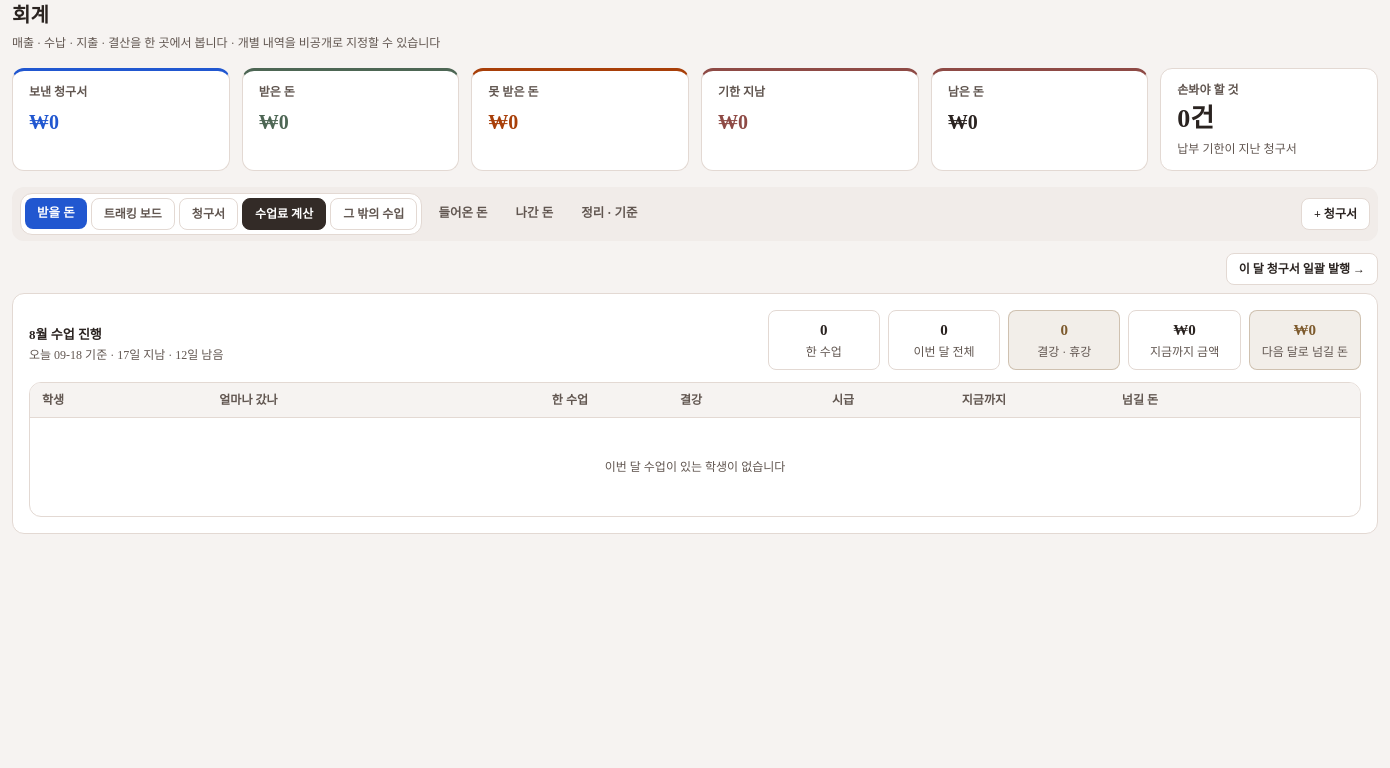
it: 수강·월 청구 탭의 「이 달 청구서 일괄 발행 →」은 청구서 탭의 일괄 발행 창을 **그 달**로 연다 (H-75)
The width and height of the screenshot is (1390, 768).
Expected: the heading "8월 수업 진행" is shown, x1=29 y1=326 x2=102 y2=342
Click the button "이 달 청구서 일괄 발행 →". click: (1302, 268)
box: x1=1226 y1=252 x2=1378 y2=284
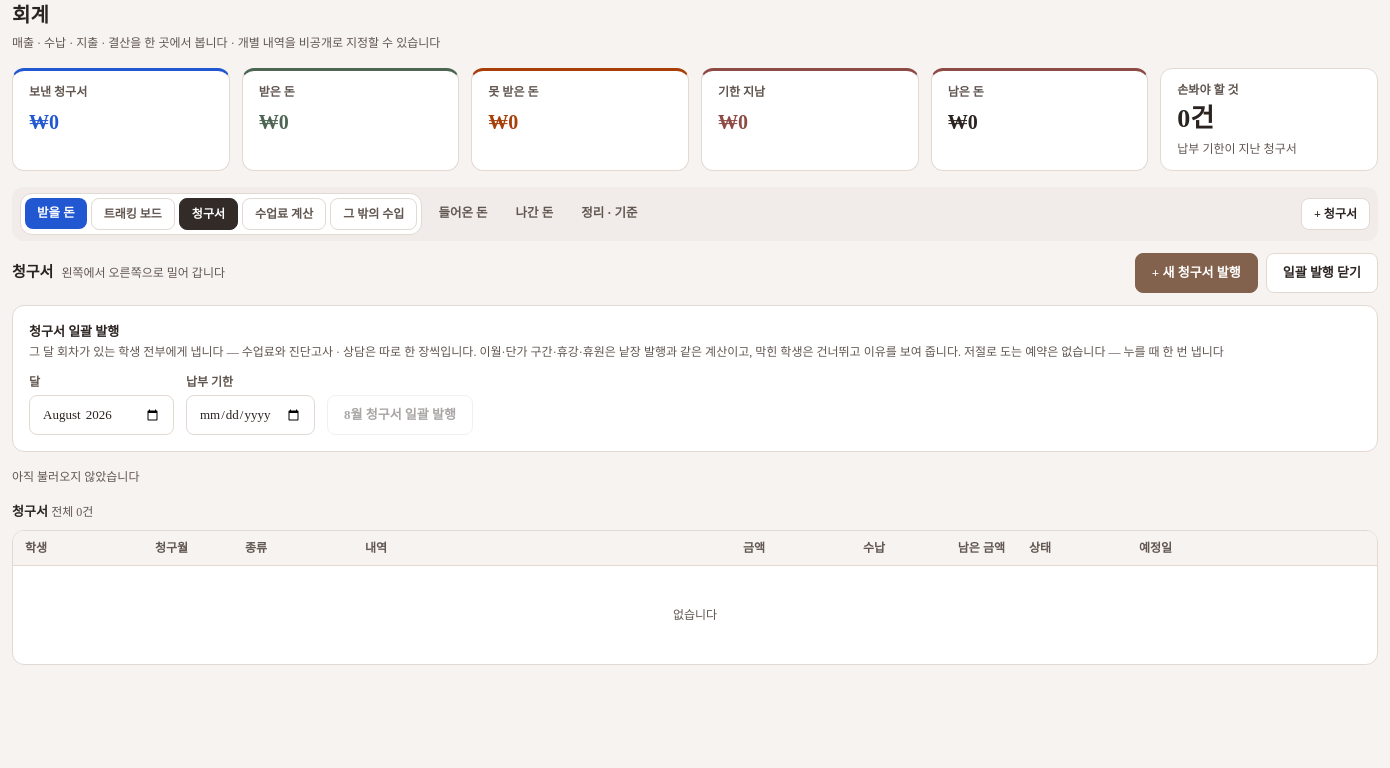
Expected: the button "8월 청구서 일괄 발행" is shown, x1=327 y1=395 x2=473 y2=435
Expected: the field labelled "달" holds "2026-08", x1=29 y1=395 x2=174 y2=435
Expected: the date field labelled "납부 기한" is empty, x1=186 y1=395 x2=315 y2=435
